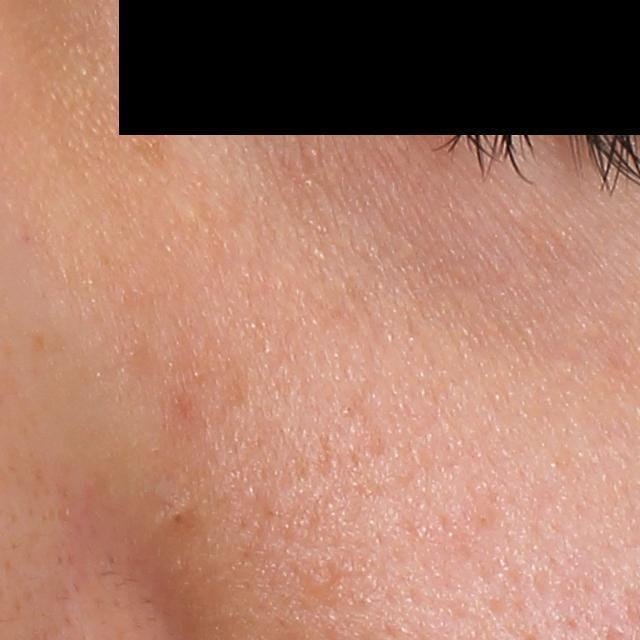comedo: (159, 505, 197, 531)
melasma: (133, 120, 175, 168)
